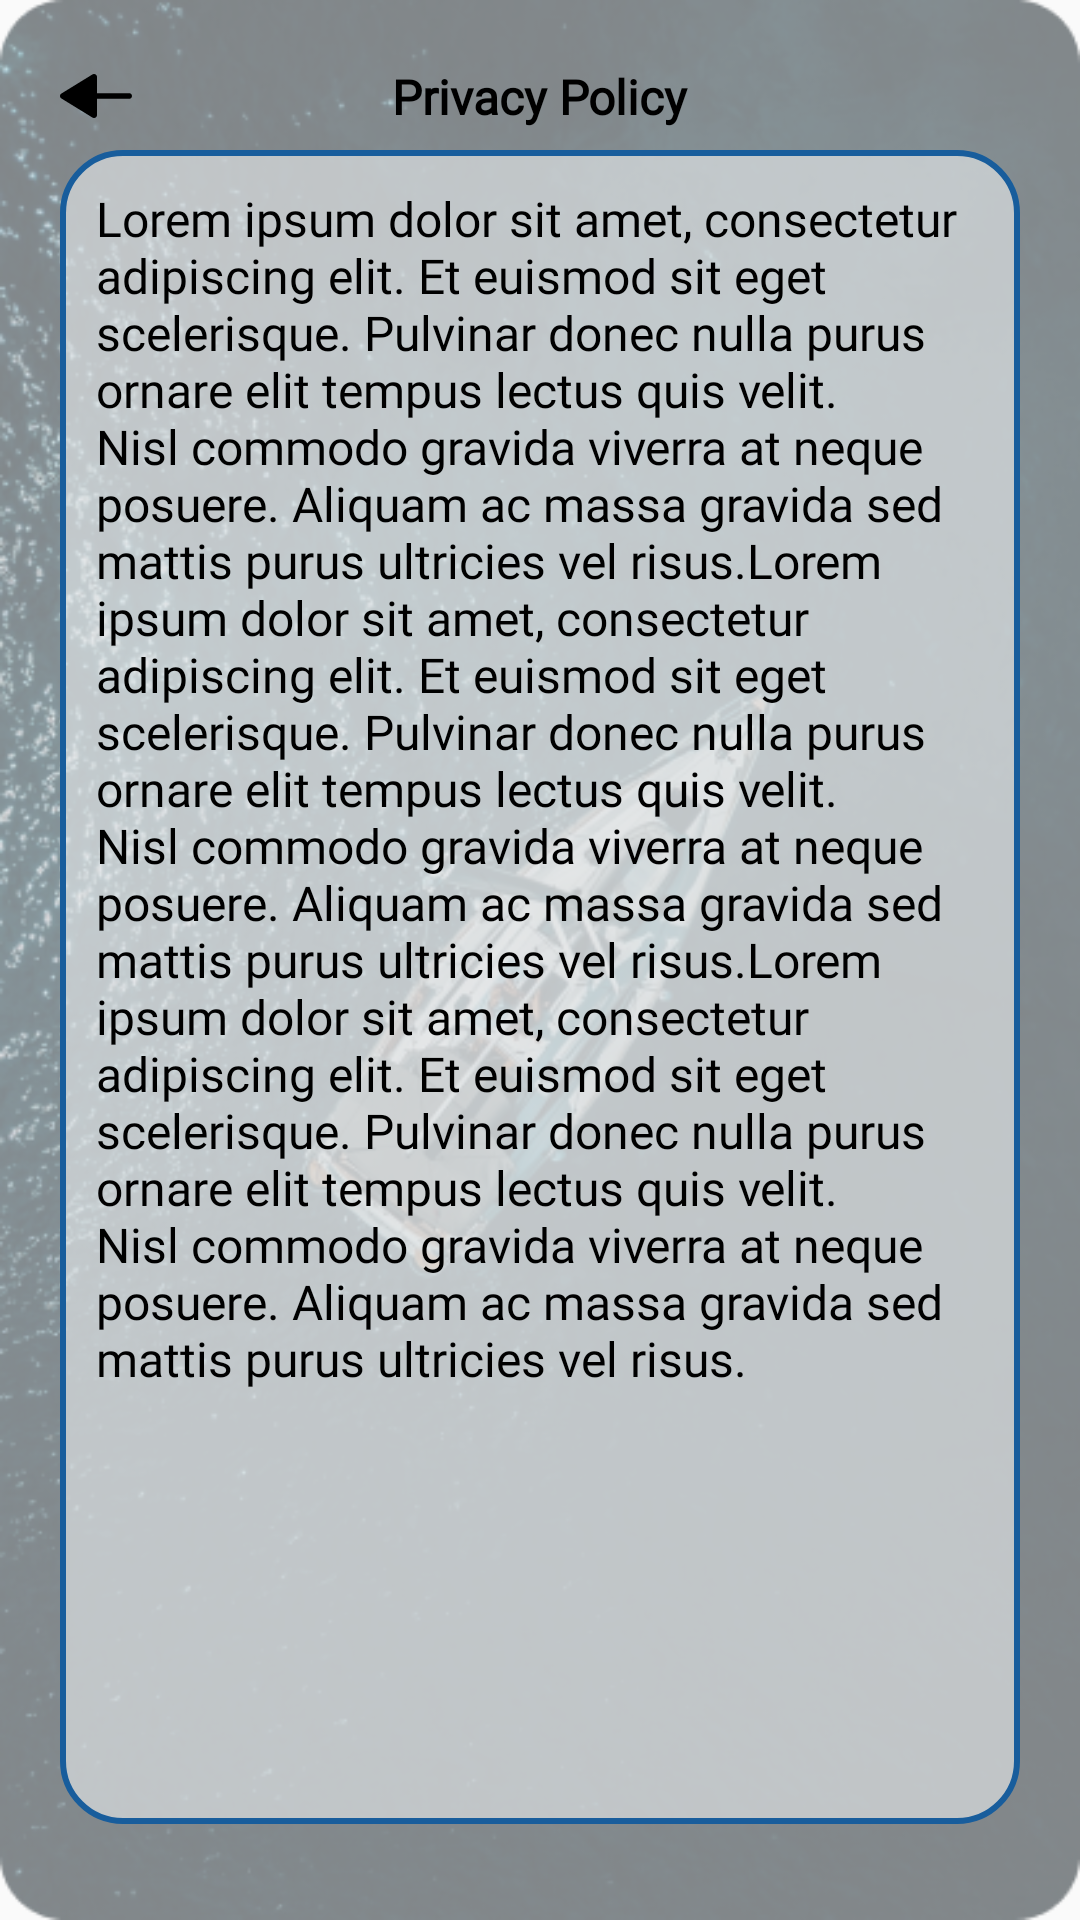

Named icons in this screenshot (1080px×1920px) and their bounding boxes, {"x1": x1, "y1": y1, "x2": x2, "y2": y2}:
backarrowblack: {"x1": 60, "y1": 74, "x2": 132, "y2": 144}
